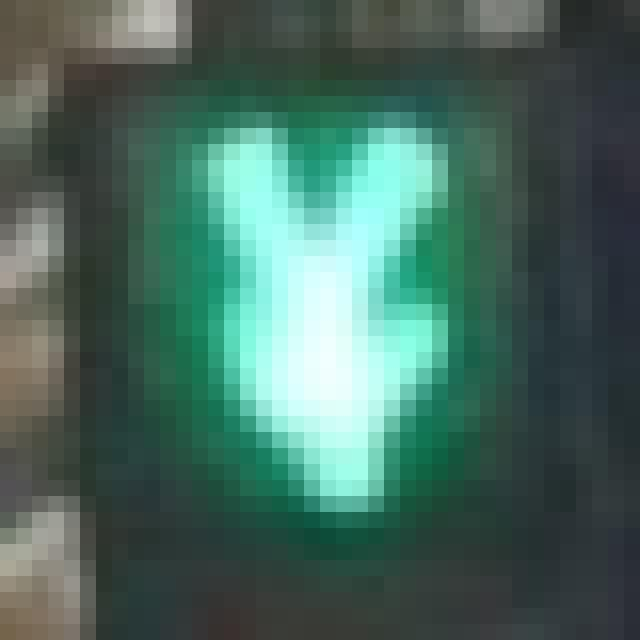green_light: (144, 80, 448, 512)
